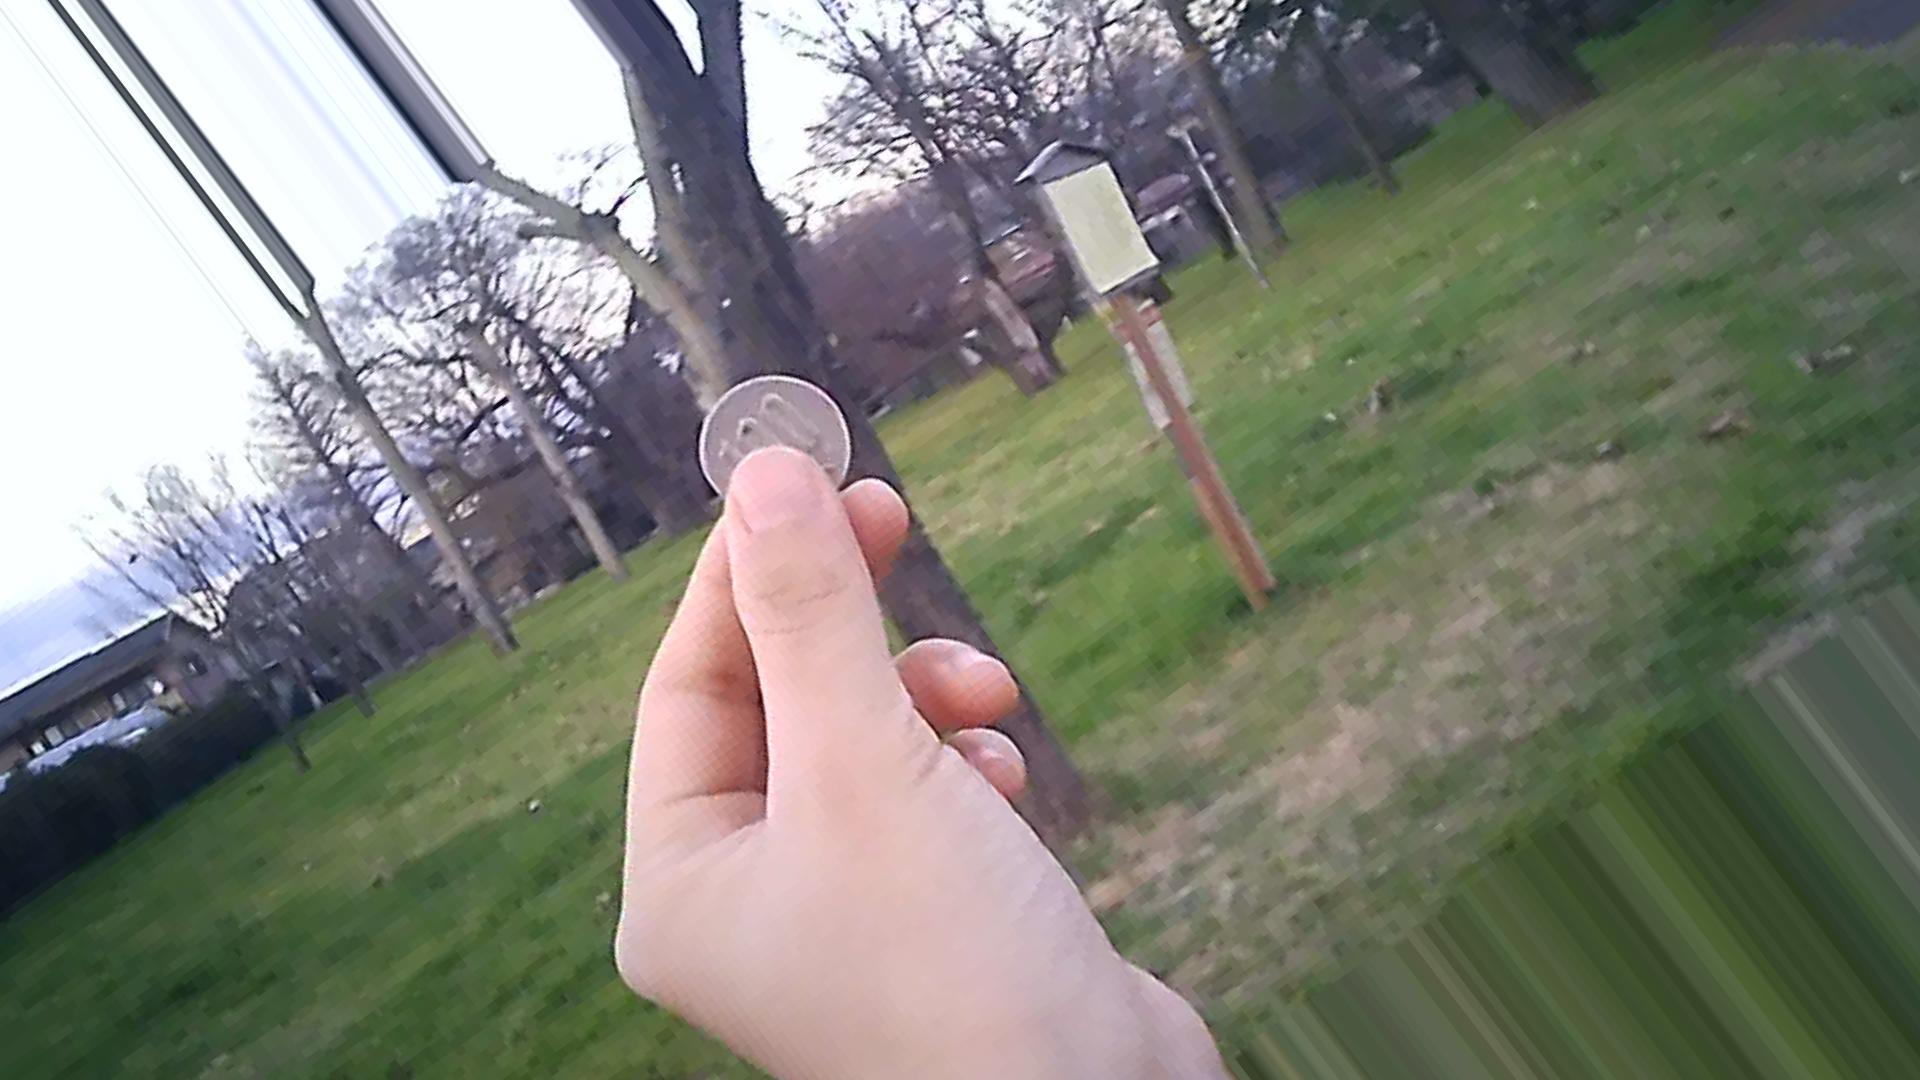100 Yen: (684, 367, 844, 510)
